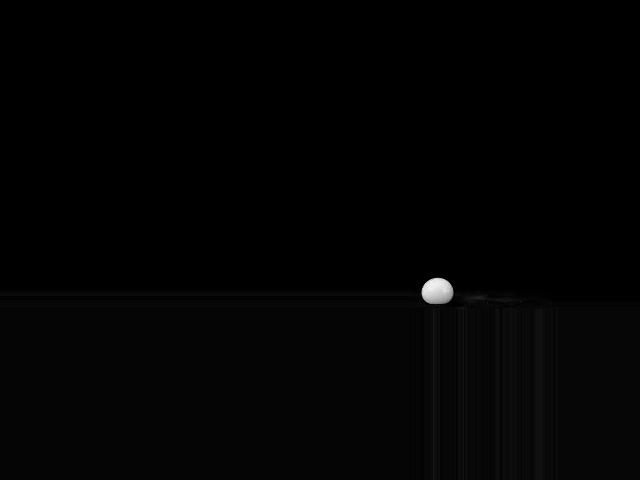egg: (421, 277, 454, 304)
